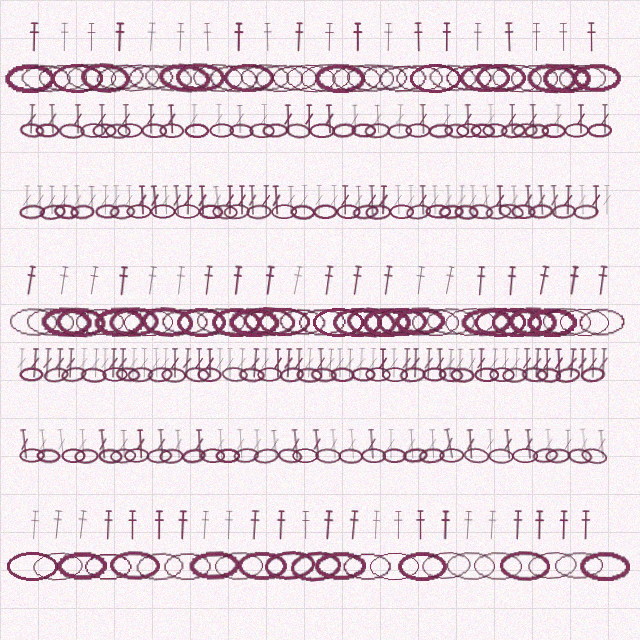chain: (93, 60, 146, 95), (108, 61, 162, 95), (157, 61, 211, 95), (289, 549, 343, 583), (142, 61, 195, 95), (345, 305, 398, 339), (140, 305, 194, 338), (242, 305, 296, 338), (443, 305, 497, 338), (79, 61, 132, 94), (263, 549, 316, 582), (420, 549, 473, 582), (526, 549, 579, 582), (284, 62, 338, 94), (490, 62, 544, 94), (31, 550, 85, 582), (19, 62, 72, 94), (191, 62, 245, 93), (207, 62, 259, 94), (376, 62, 428, 94), (427, 62, 479, 94), (526, 62, 578, 94), (55, 306, 107, 338), (460, 306, 512, 338), (134, 550, 186, 582), (299, 62, 352, 93), (277, 306, 328, 338), (65, 62, 117, 93), (239, 62, 291, 93), (40, 306, 92, 337), (93, 306, 145, 337), (425, 306, 477, 337), (541, 306, 593, 337), (109, 550, 161, 581), (188, 550, 240, 581), (445, 550, 497, 581), (472, 550, 524, 581), (409, 63, 462, 93), (122, 307, 175, 337), (474, 307, 527, 337), (558, 307, 611, 337), (368, 551, 421, 581), (175, 62, 226, 93), (108, 306, 159, 337), (195, 306, 246, 337), (296, 306, 347, 337), (394, 306, 445, 337), (213, 550, 264, 581), (499, 550, 550, 581), (553, 550, 604, 581), (37, 63, 89, 93), (51, 63, 103, 93), (330, 63, 382, 93), (74, 307, 126, 337), (258, 307, 310, 337), (312, 307, 364, 337), (376, 307, 428, 337), (491, 307, 543, 337), (6, 551, 58, 581), (314, 551, 366, 581), (126, 62, 176, 93), (345, 62, 395, 93), (360, 62, 410, 93), (8, 306, 58, 337), (25, 306, 75, 337), (508, 306, 558, 337), (577, 306, 627, 337), (4, 63, 55, 93), (223, 63, 274, 93), (314, 63, 365, 93), (394, 63, 445, 93), (459, 63, 510, 93), (475, 63, 526, 93), (557, 63, 608, 93), (176, 307, 227, 337), (211, 307, 262, 337), (228, 307, 279, 337), (526, 307, 577, 337), (56, 551, 107, 581), (82, 551, 133, 581), (162, 551, 213, 581), (237, 551, 288, 581), (341, 551, 392, 581), (397, 551, 448, 581), (579, 551, 630, 581), (254, 63, 304, 93), (270, 63, 320, 93), (444, 63, 494, 93), (509, 63, 559, 93), (542, 63, 592, 93), (572, 63, 622, 93), (160, 307, 210, 337), (332, 307, 382, 337), (362, 307, 412, 337), (410, 307, 460, 337), (580, 446, 608, 466), (497, 202, 525, 221), (60, 365, 88, 384), (39, 203, 66, 221), (352, 203, 379, 221), (405, 203, 432, 221), (485, 203, 512, 221), (554, 366, 581, 384), (253, 447, 280, 465), (285, 122, 311, 140), (43, 366, 69, 384), (181, 447, 207, 465), (277, 447, 303, 465), (567, 447, 593, 465), (364, 122, 391, 139), (223, 203, 250, 220), (127, 366, 154, 383), (221, 366, 248, 383), (399, 366, 426, 383), (521, 366, 548, 383), (418, 447, 445, 464), (463, 447, 490, 464), (532, 447, 559, 464), (19, 122, 45, 139), (331, 122, 357, 139), (500, 122, 526, 139), (512, 122, 538, 139), (53, 203, 79, 220), (468, 203, 494, 220), (528, 203, 554, 220), (551, 203, 577, 220), (115, 366, 141, 383), (147, 366, 173, 383), (184, 366, 210, 383), (279, 366, 305, 383), (438, 366, 464, 383), (580, 366, 606, 383), (233, 447, 259, 464), (402, 447, 428, 464), (58, 123, 85, 139), (109, 204, 136, 220), (80, 367, 107, 383), (238, 367, 265, 383), (310, 367, 337, 383), (146, 448, 173, 464), (105, 123, 131, 139), (19, 204, 45, 220), (212, 204, 238, 220), (246, 204, 272, 220), (365, 204, 391, 220), (438, 204, 464, 220), (573, 204, 599, 220), (296, 367, 322, 383), (110, 448, 136, 464), (315, 448, 341, 464), (488, 448, 514, 464), (545, 448, 571, 464), (229, 123, 254, 139), (387, 123, 412, 139), (428, 123, 453, 139), (444, 123, 469, 139), (524, 123, 549, 139), (70, 204, 95, 220), (290, 204, 315, 220), (454, 204, 479, 220), (161, 367, 186, 383), (450, 367, 475, 383), (502, 367, 527, 383), (536, 367, 561, 383), (36, 448, 61, 464), (74, 448, 99, 464), (98, 448, 123, 464), (159, 448, 184, 464), (338, 448, 363, 464), (80, 123, 106, 138), (117, 123, 143, 138), (141, 123, 167, 138), (249, 123, 275, 138), (262, 123, 288, 138), (309, 123, 335, 138), (405, 123, 431, 138), (456, 123, 482, 138), (482, 123, 508, 138), (126, 204, 152, 219), (150, 204, 176, 219), (174, 204, 200, 219), (271, 204, 297, 219), (425, 204, 451, 219), (102, 367, 128, 382), (365, 367, 391, 382), (382, 367, 408, 382), (489, 367, 515, 382), (19, 448, 45, 463), (292, 448, 318, 463), (512, 448, 538, 463), (35, 123, 60, 138), (92, 123, 117, 138), (159, 123, 184, 138), (184, 123, 209, 138), (209, 123, 234, 138), (351, 123, 376, 138), (470, 123, 495, 138), (541, 123, 566, 138), (564, 123, 589, 138), (587, 123, 612, 138), (95, 204, 120, 219), (198, 204, 223, 219), (313, 204, 338, 219), (336, 204, 361, 219), (389, 204, 414, 219), (511, 204, 536, 219), (19, 367, 44, 382), (197, 367, 222, 382), (257, 367, 282, 382), (330, 367, 355, 382), (351, 367, 376, 382), (422, 367, 447, 382), (474, 367, 499, 382), (61, 448, 86, 463), (124, 448, 149, 463), (200, 448, 225, 463), (215, 448, 240, 463), (361, 448, 386, 463), (382, 448, 407, 463), (439, 448, 464, 463)
double: (442, 428, 457, 459), (578, 428, 591, 459), (211, 185, 224, 215), (18, 429, 31, 459), (55, 429, 68, 459), (72, 185, 84, 215), (149, 185, 161, 215), (171, 185, 183, 215), (480, 185, 492, 215), (29, 348, 41, 378), (181, 348, 193, 378), (249, 348, 261, 378), (303, 348, 315, 378), (324, 348, 336, 378), (355, 348, 367, 378), (488, 348, 500, 378), (531, 348, 543, 378), (566, 348, 578, 378), (37, 429, 49, 459), (97, 429, 109, 459), (269, 429, 281, 459), (290, 429, 302, 459), (311, 429, 323, 459), (328, 429, 340, 459), (346, 429, 358, 459), (366, 429, 378, 459), (502, 429, 514, 459), (523, 429, 535, 459), (543, 429, 555, 459), (596, 429, 608, 459), (26, 104, 37, 134), (47, 104, 58, 134), (166, 104, 177, 134), (324, 104, 335, 134), (372, 104, 383, 134), (394, 104, 405, 134), (137, 185, 148, 215), (160, 185, 171, 215), (197, 185, 208, 215), (247, 185, 258, 215), (271, 185, 282, 215), (353, 185, 364, 215), (378, 185, 389, 215), (443, 185, 454, 215), (456, 185, 467, 215), (509, 185, 520, 215), (523, 185, 534, 215), (536, 185, 547, 215), (549, 185, 560, 215), (577, 185, 588, 215), (16, 348, 27, 378), (42, 348, 53, 378), (54, 348, 65, 378), (65, 348, 76, 378), (78, 348, 89, 378), (90, 348, 101, 378), (108, 348, 119, 378), (117, 348, 128, 378), (128, 348, 139, 378), (236, 348, 247, 378), (283, 348, 294, 378), (344, 348, 355, 378), (401, 348, 412, 378), (410, 348, 421, 378), (423, 348, 434, 378), (445, 348, 456, 378), (577, 348, 588, 378), (598, 348, 609, 378), (77, 429, 88, 459), (135, 429, 146, 459), (156, 429, 167, 459), (173, 429, 184, 459), (194, 429, 205, 459), (215, 429, 226, 459), (235, 429, 246, 459), (252, 429, 263, 459), (406, 429, 417, 459), (427, 429, 438, 459), (465, 429, 476, 459), (73, 104, 83, 134), (97, 104, 107, 134), (121, 104, 131, 134), (146, 104, 156, 134), (189, 104, 199, 134), (214, 104, 224, 134), (235, 104, 245, 134), (259, 104, 269, 134), (283, 104, 293, 134), (304, 104, 314, 134), (350, 104, 360, 134), (418, 104, 428, 134), (442, 104, 452, 134), (463, 104, 473, 134), (486, 104, 496, 134), (507, 104, 517, 134), (528, 104, 538, 134), (553, 104, 563, 134), (576, 104, 586, 134), (600, 104, 610, 134), (22, 185, 32, 215), (35, 185, 45, 215), (47, 185, 57, 215), (59, 185, 69, 215), (87, 185, 97, 215), (100, 185, 110, 215), (111, 185, 121, 215), (124, 185, 134, 215), (183, 185, 193, 215), (225, 185, 235, 215), (237, 185, 247, 215), (261, 185, 271, 215), (286, 185, 296, 215), (299, 185, 309, 215), (314, 185, 324, 215), (329, 185, 339, 215), (340, 185, 350, 215), (367, 185, 377, 215), (393, 185, 403, 215), (406, 185, 416, 215), (418, 185, 428, 215), (430, 185, 440, 215), (468, 185, 478, 215), (495, 185, 505, 215), (563, 185, 573, 215), (591, 185, 601, 215), (602, 185, 612, 215), (100, 348, 110, 378), (139, 348, 149, 378), (151, 348, 161, 378), (160, 348, 170, 378), (170, 348, 180, 378), (194, 348, 204, 378), (205, 348, 215, 378), (215, 348, 225, 378), (225, 348, 235, 378), (260, 348, 270, 378), (273, 348, 283, 378), (294, 348, 304, 378), (316, 348, 326, 378), (335, 348, 345, 378), (368, 348, 378, 378), (378, 348, 388, 378), (389, 348, 399, 378), (435, 348, 445, 378), (455, 348, 465, 378), (467, 348, 477, 378), (476, 348, 486, 378), (500, 348, 510, 378), (511, 348, 521, 378), (522, 348, 532, 378), (542, 348, 552, 378), (554, 348, 564, 378), (588, 348, 598, 378), (119, 429, 129, 459), (386, 429, 396, 459), (485, 429, 495, 459), (563, 429, 573, 459)
half_double: (55, 265, 71, 296), (289, 265, 305, 296), (441, 265, 457, 296), (535, 265, 551, 296), (23, 265, 38, 296), (86, 265, 101, 296), (144, 265, 159, 296), (349, 265, 364, 296), (380, 265, 395, 296), (566, 265, 581, 296), (173, 265, 187, 296), (201, 265, 215, 296), (230, 265, 244, 296), (262, 265, 276, 296), (321, 265, 335, 296), (413, 265, 427, 296), (595, 265, 609, 296), (50, 509, 64, 540), (75, 509, 89, 540), (144, 22, 158, 52), (116, 266, 130, 296), (321, 510, 335, 540), (113, 22, 126, 52), (474, 266, 487, 296), (505, 266, 518, 296), (28, 510, 41, 540), (176, 510, 189, 540), (222, 510, 235, 540), (248, 510, 261, 540), (347, 510, 360, 540), (511, 510, 524, 540), (28, 22, 40, 52), (293, 22, 305, 52), (323, 22, 335, 52), (382, 22, 394, 52), (503, 22, 515, 52), (530, 22, 542, 52), (557, 22, 569, 52), (102, 510, 114, 540), (153, 510, 165, 540), (199, 510, 211, 540), (275, 510, 287, 540), (370, 510, 382, 540), (392, 510, 404, 540), (462, 510, 474, 540), (486, 510, 498, 540), (59, 22, 70, 52), (86, 22, 97, 52), (175, 22, 186, 52), (202, 22, 213, 52), (233, 22, 244, 52), (262, 22, 273, 52), (352, 22, 363, 52), (413, 22, 424, 52), (441, 22, 452, 52), (472, 22, 483, 52), (586, 22, 597, 52), (127, 510, 138, 540), (300, 510, 311, 540), (415, 510, 426, 540), (440, 510, 451, 540), (534, 510, 545, 540), (558, 510, 569, 540), (580, 510, 591, 540)
